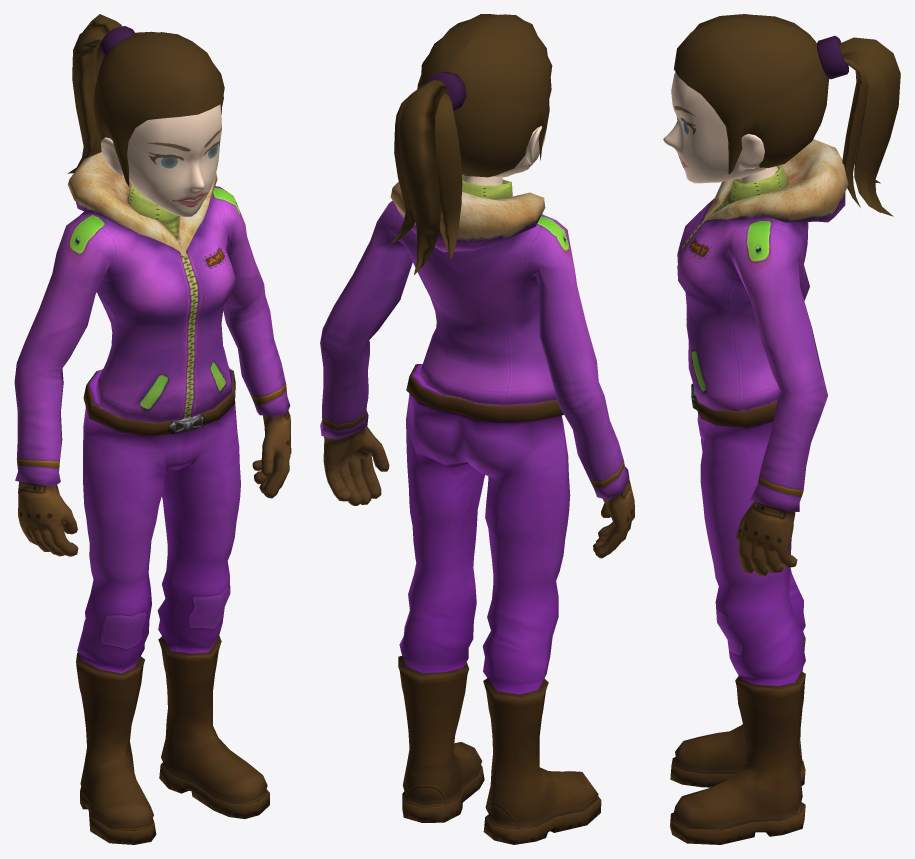
Rendered from mujer.fbx.
3 views of the same model, side by side, from view 1: azimuth 30°, elevation 25°; view 2: azimuth 150°, elevation 25°; view 3: azimuth 270°, elevation 25° (orthographic). The views are drawn at different scales.
Parts seen in each view (by area): view 1: node_id38, node_id40, node_id34, node_id42, node_id36; view 2: node_id38, node_id40, node_id34, node_id36, node_id42; view 3: node_id40, node_id38, node_id34, node_id42, node_id36.
Boxes of the visible parts, x1,y1,x2,y2 form: node_id38: (76,369,269,844); node_id40: (14,152,291,556); node_id34: (68,14,224,186); node_id42: (101,104,221,216); node_id36: (99,26,134,57); node_id38: (398,364,601,844); node_id40: (320,174,634,558); node_id34: (389,14,552,274); node_id36: (425,71,466,111); node_id42: (494,126,546,177); node_id40: (677,139,848,576); node_id38: (670,383,805,844); node_id34: (674,14,900,216); node_id42: (663,72,766,183); node_id36: (817,35,848,79).
Bounding box in the file's own units: 0.1974 × 0.512 × 0.1405.
Materials: 6 (4 with a texture image).
